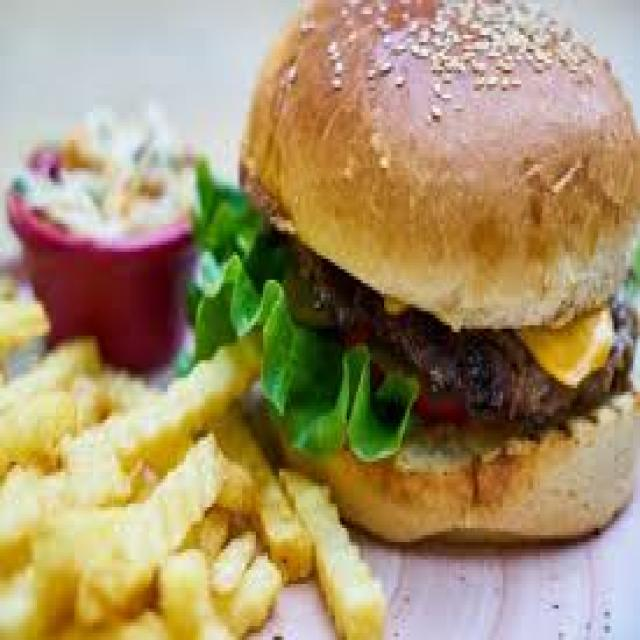감자튀김: (7, 307, 346, 638)
햄버거: (256, 0, 638, 546)
